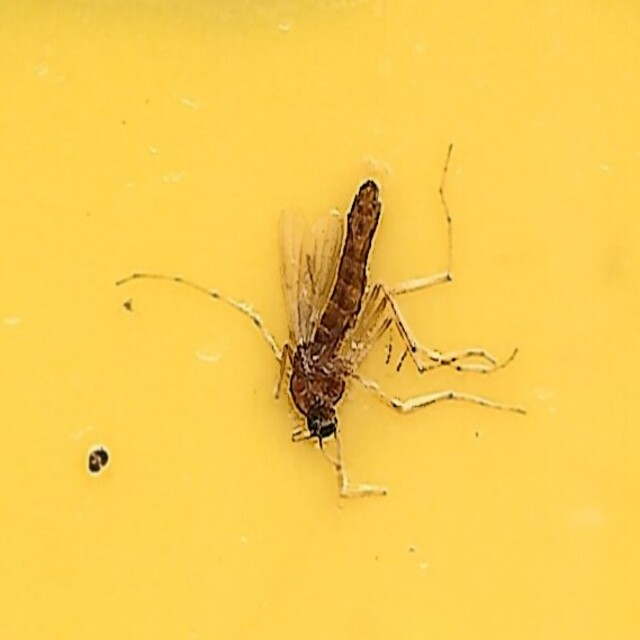Nematocera: (112, 139, 528, 501)
